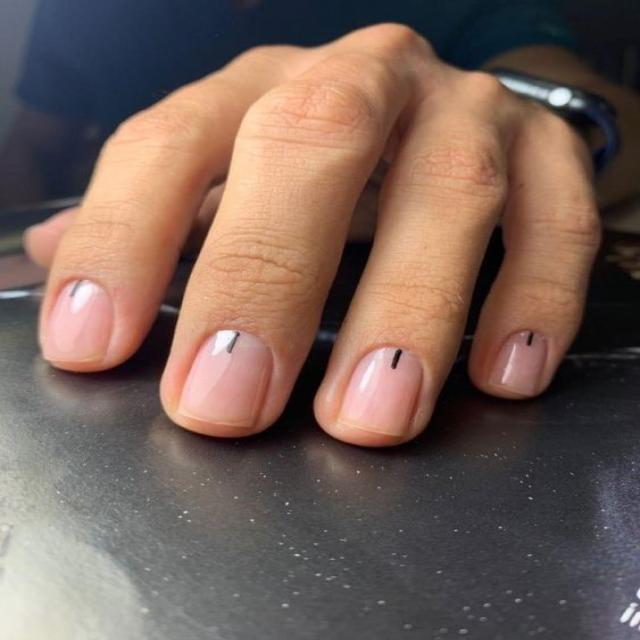Fingernail: (178, 330, 272, 428), (338, 348, 422, 437), (42, 279, 114, 363), (490, 331, 547, 398)
